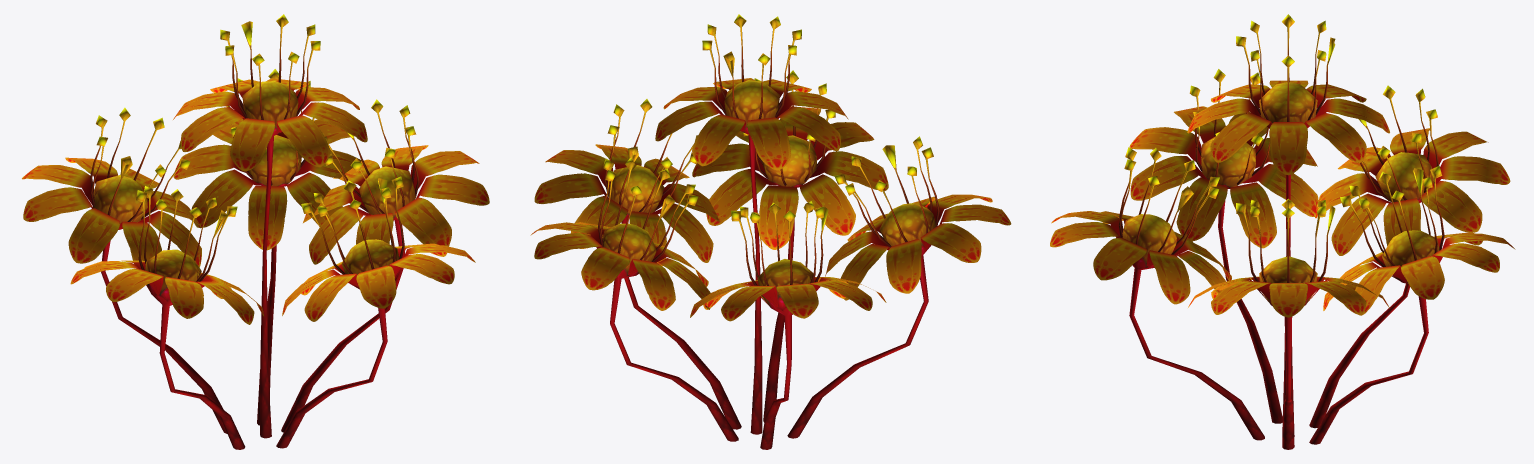
The model's file is Red_Flower_02d.FBX.
3 renders of one model, left to right at view 1: azimuth 30°, elevation 25°; view 2: azimuth 150°, elevation 25°; view 3: azimuth 270°, elevation 25°, orthographic.
Visible parts, largest first — view 1: Red_Flower_02d; view 2: Red_Flower_02d; view 3: Red_Flower_02d.
Part boxes in pixels (<box>): Red_Flower_02d: <box>22,14,489,449</box>; Red_Flower_02d: <box>530,14,1011,449</box>; Red_Flower_02d: <box>1050,14,1515,449</box>.
Size of the model in its own units: 110 by 97.79 by 105.
